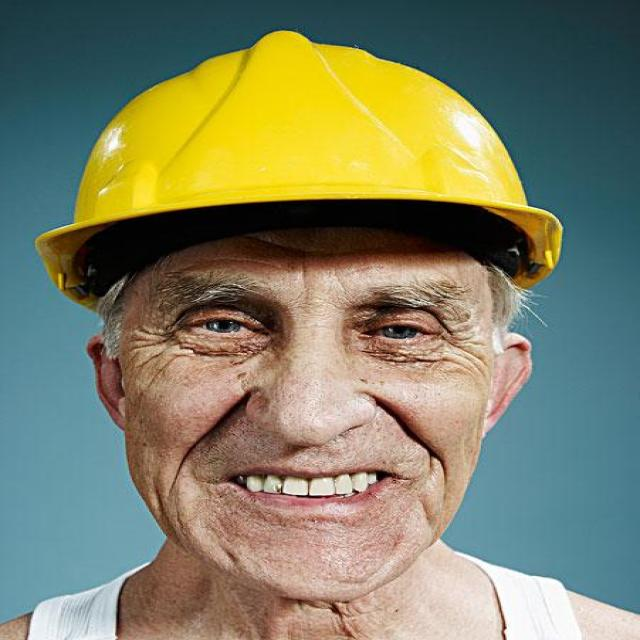helmet: (33, 26, 566, 602)
